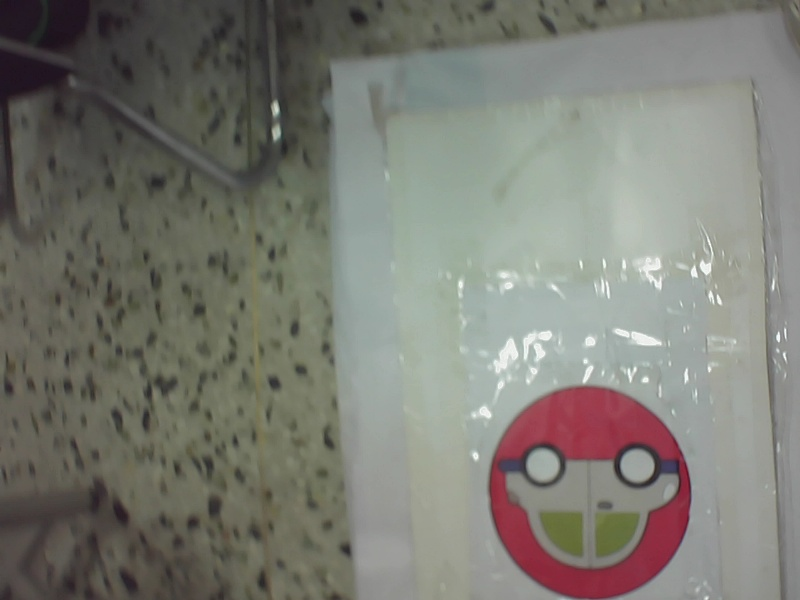areaC: (479, 380, 696, 597)
